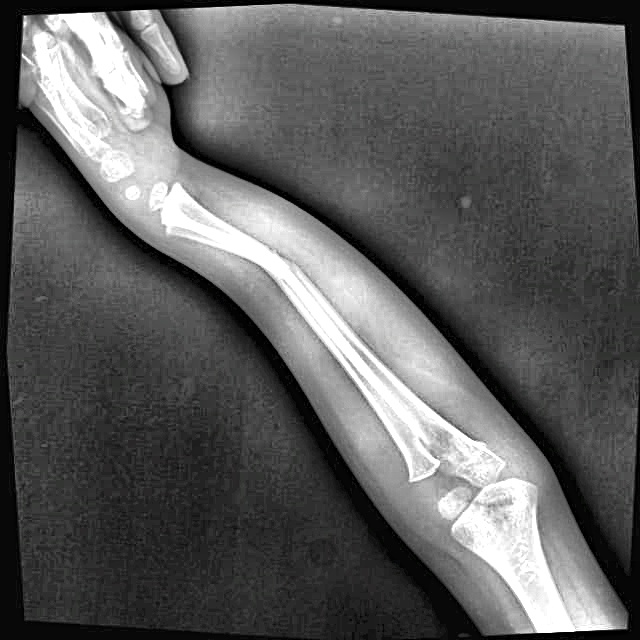Spiral: (260, 237, 313, 308)
